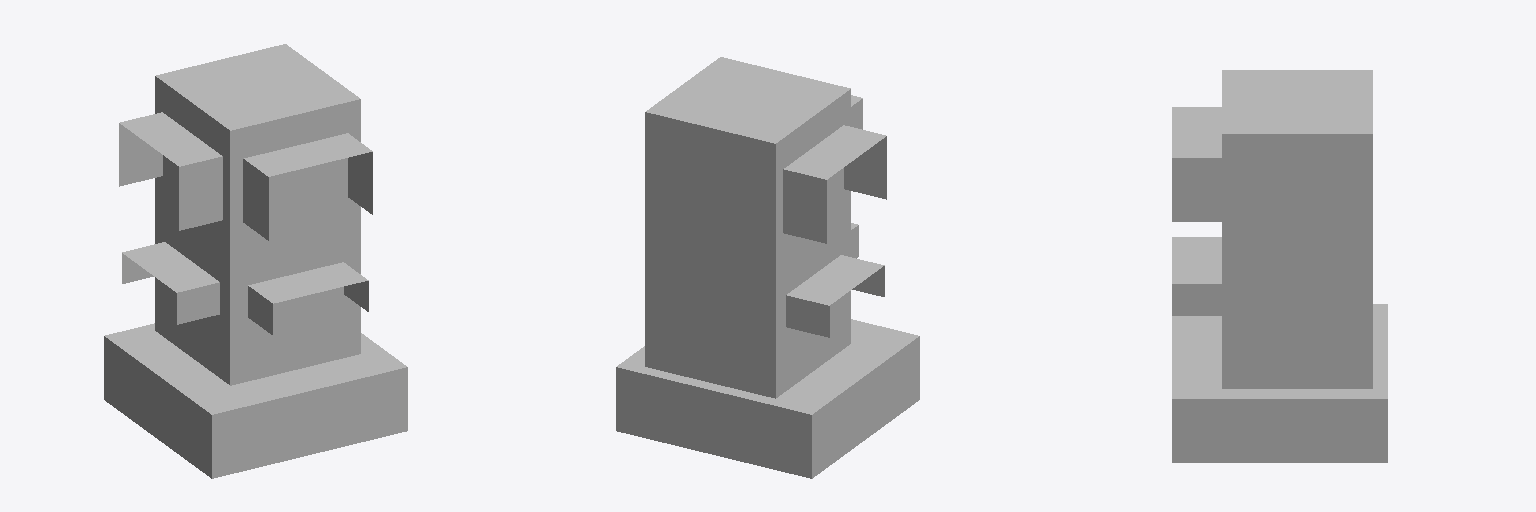
The model's file is wallCurve.obj.
3 views of the same model, side by side, from view 1: azimuth 30°, elevation 25°; view 2: azimuth 150°, elevation 25°; view 3: azimuth 270°, elevation 25° (orthographic).
Visible parts, largest first — view 1: mesh01; view 2: mesh01; view 3: mesh01.
Part boxes in pixels (bbox=[...]): mesh01: bbox=[104, 44, 407, 478]; mesh01: bbox=[616, 57, 919, 478]; mesh01: bbox=[1172, 70, 1387, 462].
Size of the model in its own units: 0.9003 by 1.4 by 0.8593.